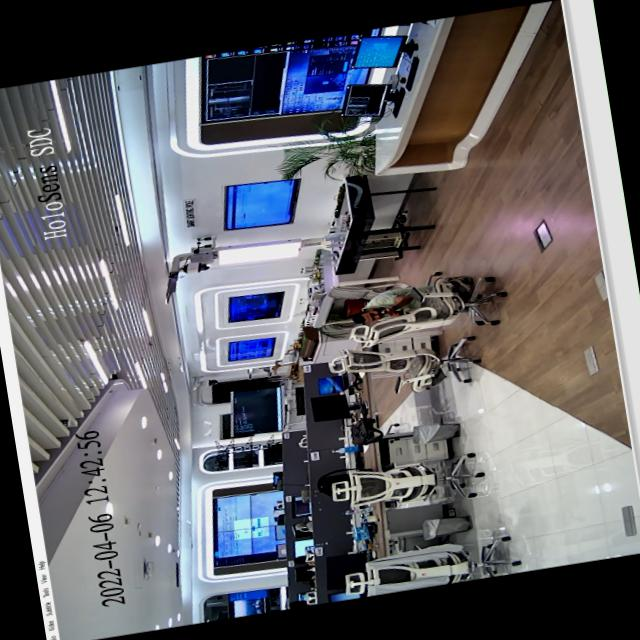long weapon: (376, 298, 408, 320)
